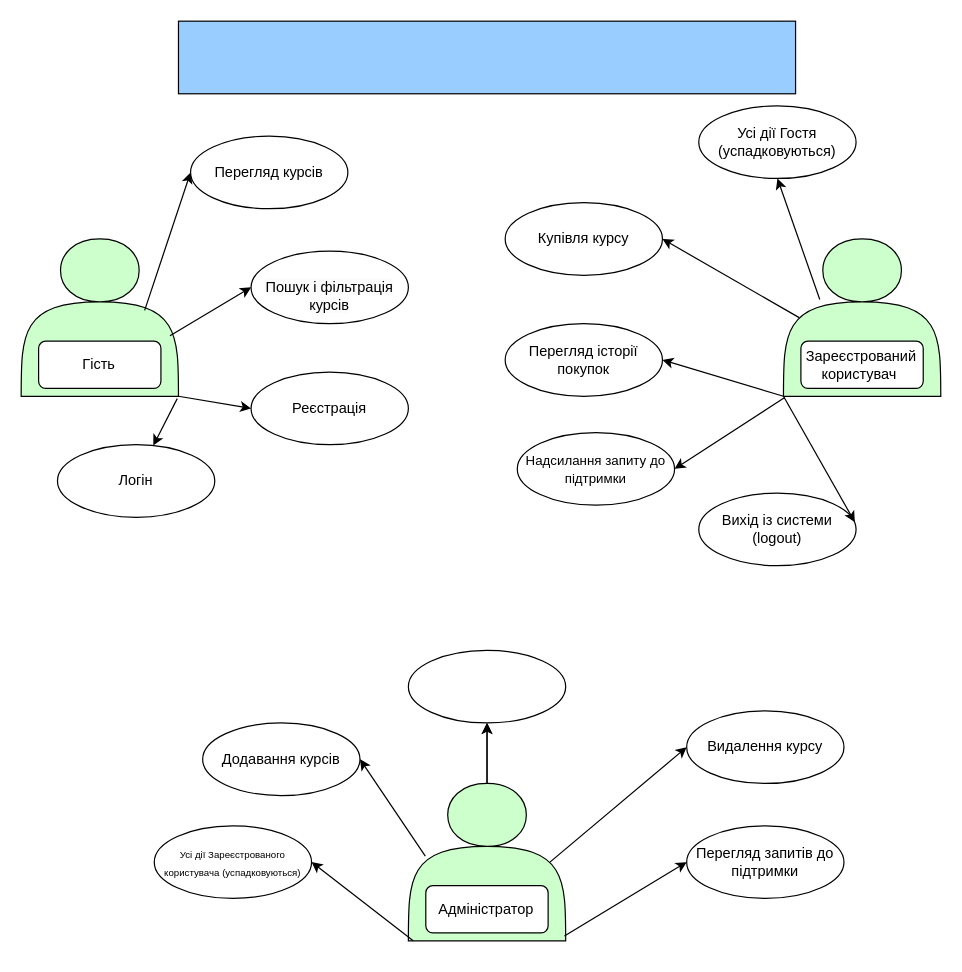
The diagram is 962 pixels wide and 972 high, and some of its shapes have lost their labels. The shapes that lost their labels are listed below. From the top down, each one's centre as x and y in pixels, then its label:
At point (486, 57): "Programerio".
At point (486, 686): "Редагування курсу".
